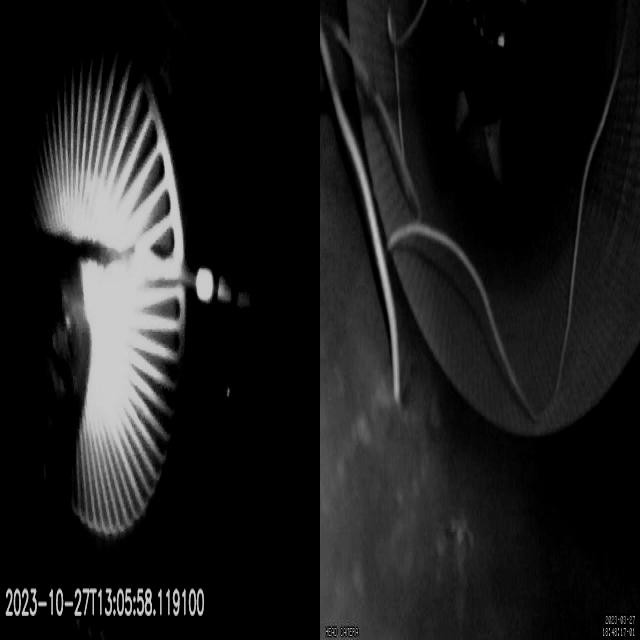white-dots: (196, 266, 251, 312)
